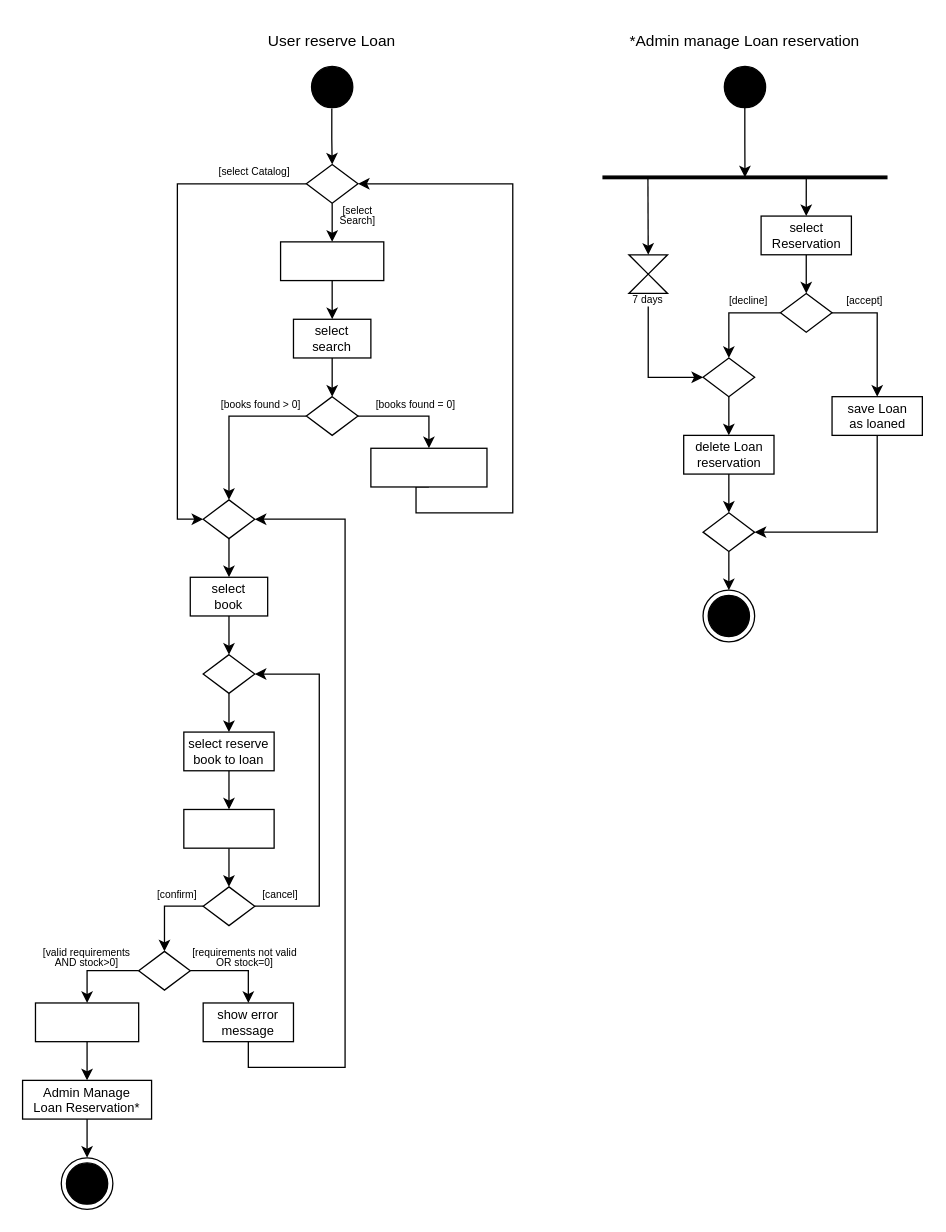
Image size: 946x1232. Some labels were removed from this diagram. The shapes that lost their labels are listed below. From the top down, each one's centre as x and y in pixels, then its label:
(x=331, y=261): insert search params
(x=428, y=467): show no books found message
(x=228, y=828): show loan confirm
(x=86, y=1022): show success message
